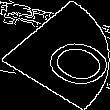O_NW: (8, 22, 102, 88)
